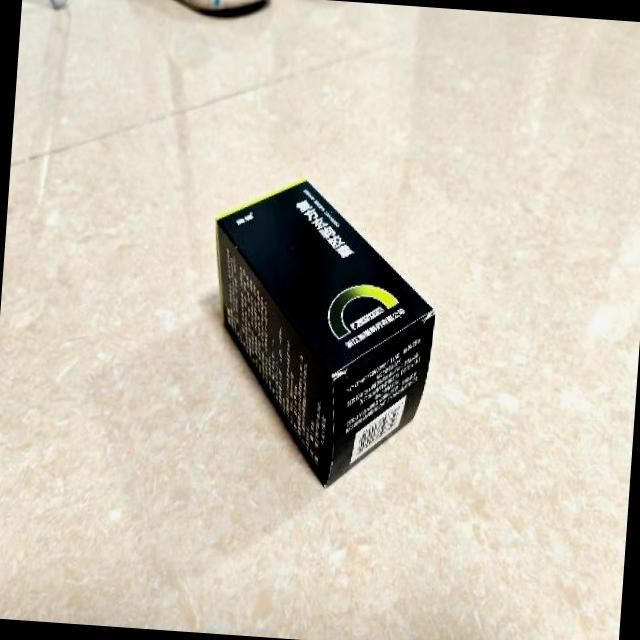box: (194, 172, 443, 492)
